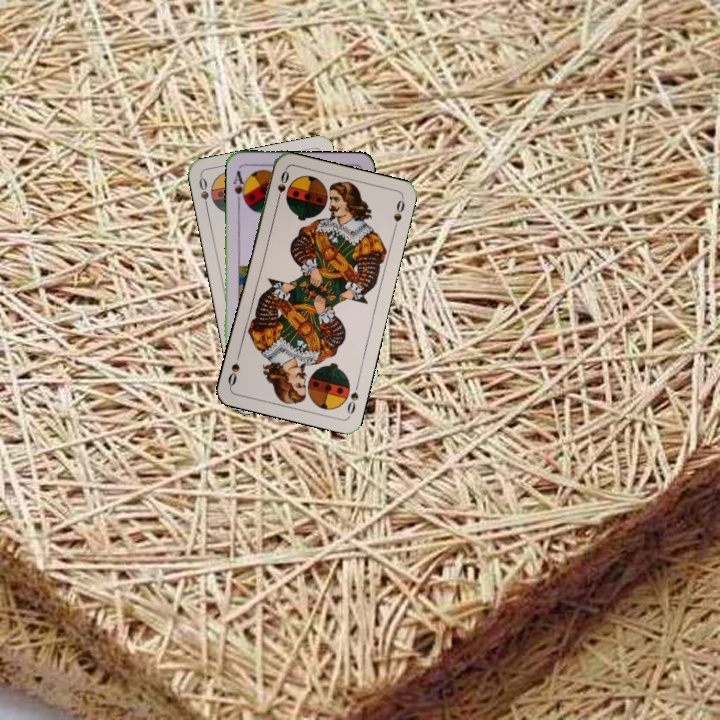SA: (229, 167, 249, 206)
SO: (272, 166, 292, 207), (343, 378, 362, 418), (195, 173, 211, 214)
